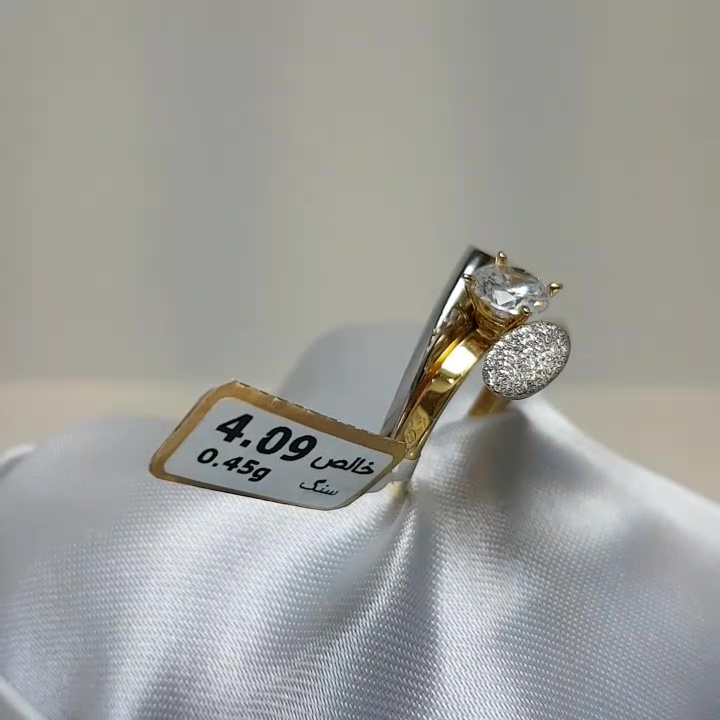Ring 7: (363, 229, 602, 521)
